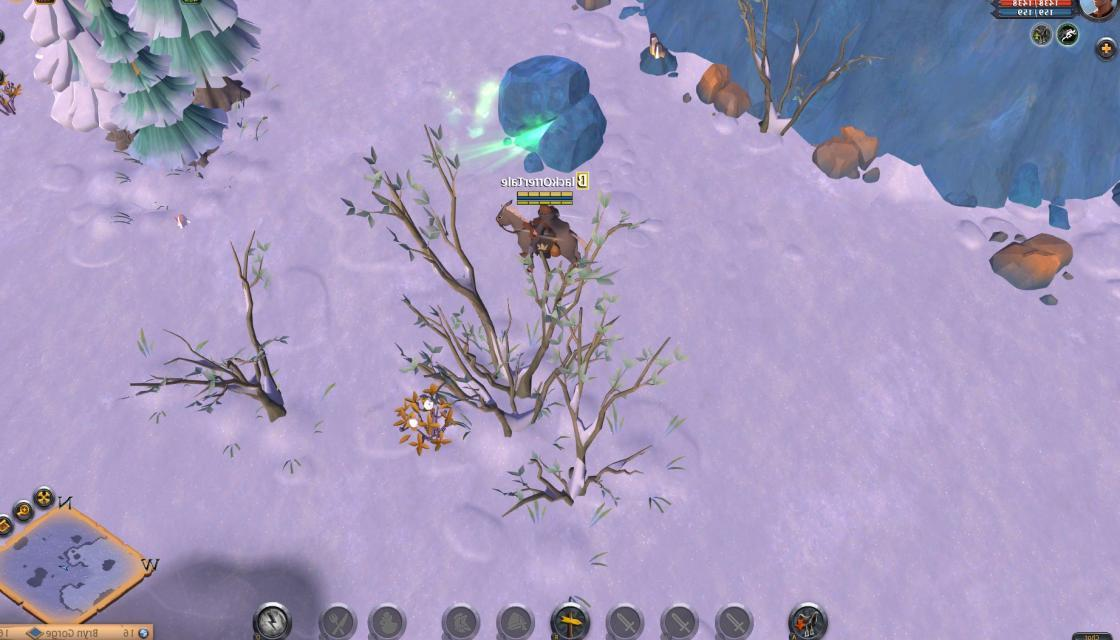copperore: (638, 32, 684, 80)
limestone: (990, 228, 1076, 290), (812, 126, 885, 191), (694, 64, 758, 118), (558, 0, 611, 11)
